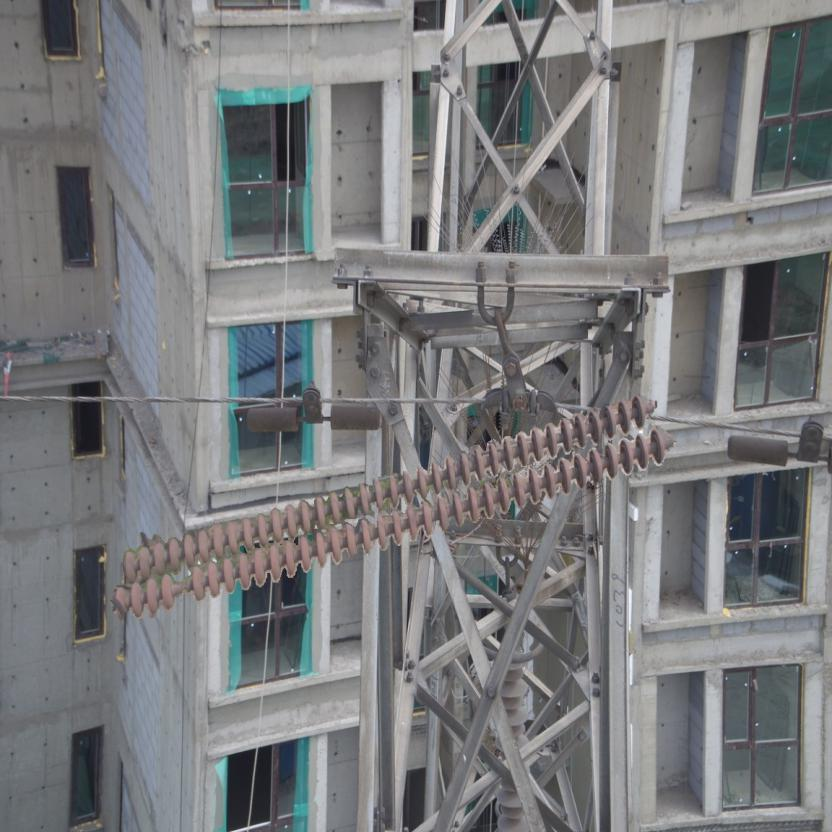defect: (156, 562, 207, 610)
